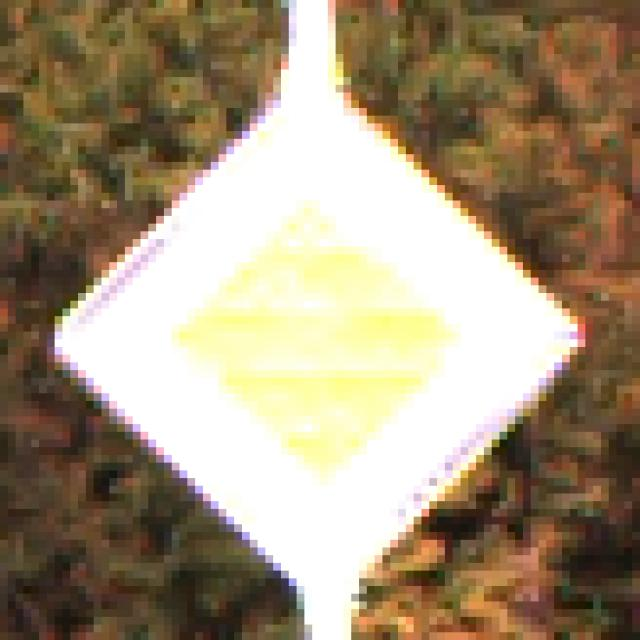Main Road: (56, 55, 586, 587)
